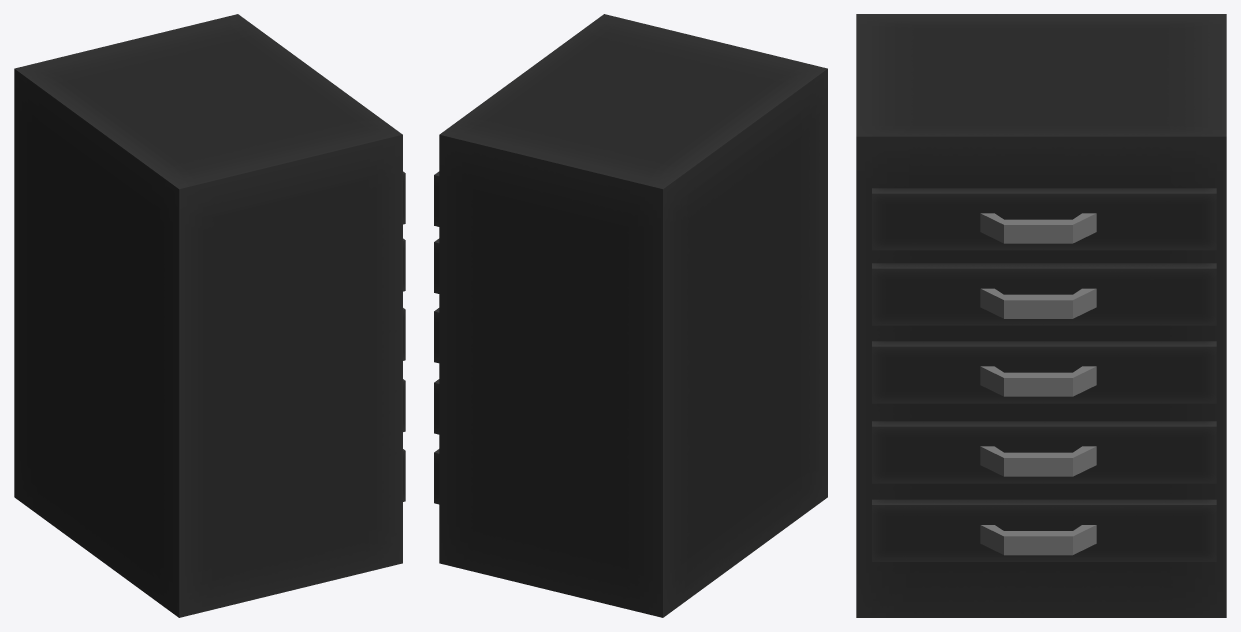
File: CupboardModel.fbx
The picture shows the model from 3 angles, left to right: view 1: azimuth 30°, elevation 25°; view 2: azimuth 150°, elevation 25°; view 3: azimuth 270°, elevation 25°; orthographic projection. The views are drawn at different scales.
Visible parts, largest first — view 1: kastje; view 2: kastje; view 3: kastje.
Boxes of the visible parts, x1,y1,x2,y2 form: kastje: (14, 14, 405, 617); kastje: (434, 14, 827, 617); kastje: (856, 14, 1226, 617).
Bounding box in the file's own units: 1.72 × 2.76 × 1.92.
1 material, 1 textured.
